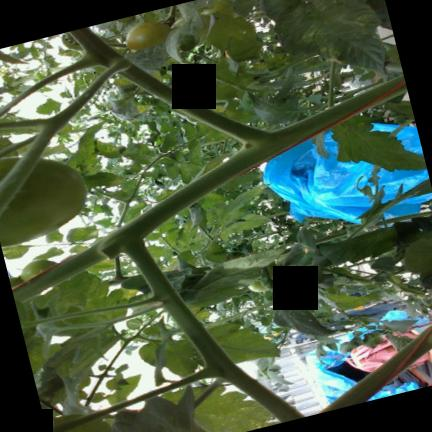6kp_petiole: (140, 76, 333, 191), (51, 195, 191, 293)
MainStem: (12, 73, 406, 301), (314, 323, 432, 414)
tomato: (0, 156, 85, 246), (247, 260, 291, 291), (125, 21, 170, 49), (20, 258, 55, 280), (274, 253, 301, 273)
